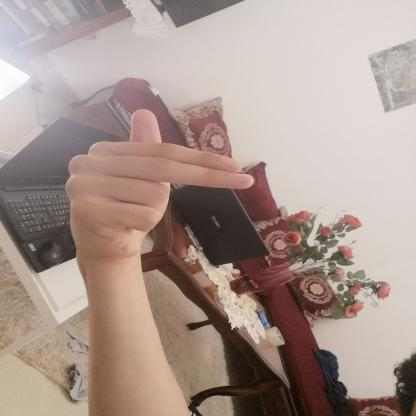GHAYN: (52, 102, 265, 266)
